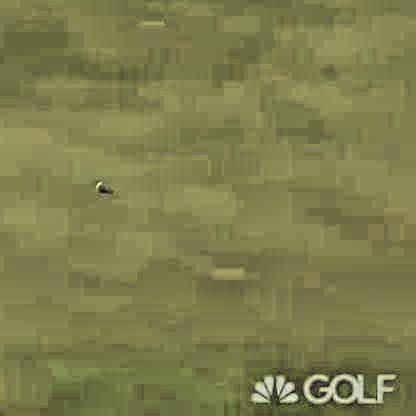golfball: (93, 177, 104, 188)
